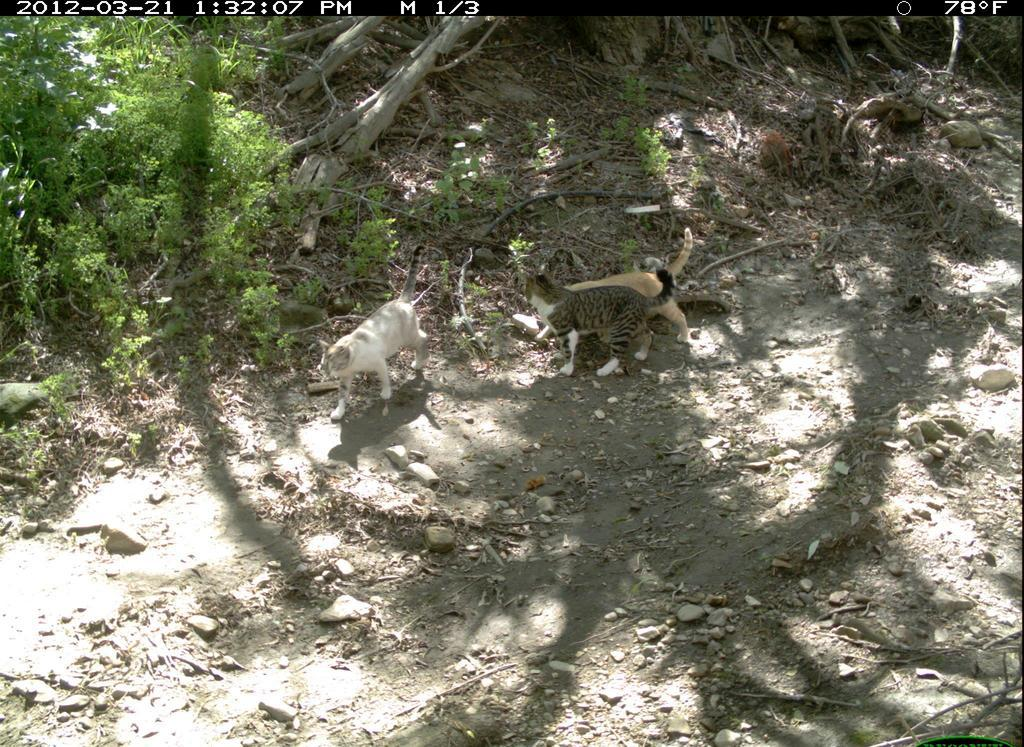cat: (321, 242, 460, 425), (537, 223, 713, 358), (519, 267, 689, 381)
